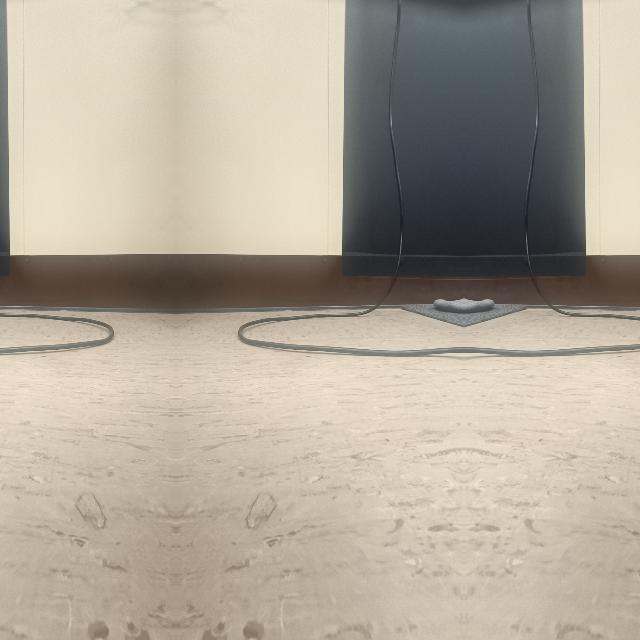obstacle: (240, 307, 464, 355), (464, 307, 640, 355), (0, 307, 110, 355)
